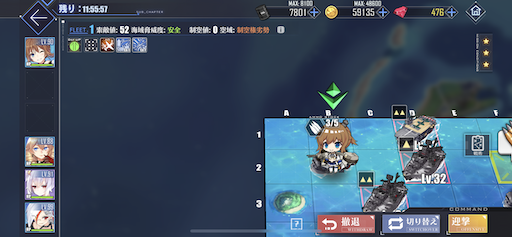lv1: (398, 140, 450, 182)
lv2: (359, 172, 405, 211), (392, 106, 434, 139)
